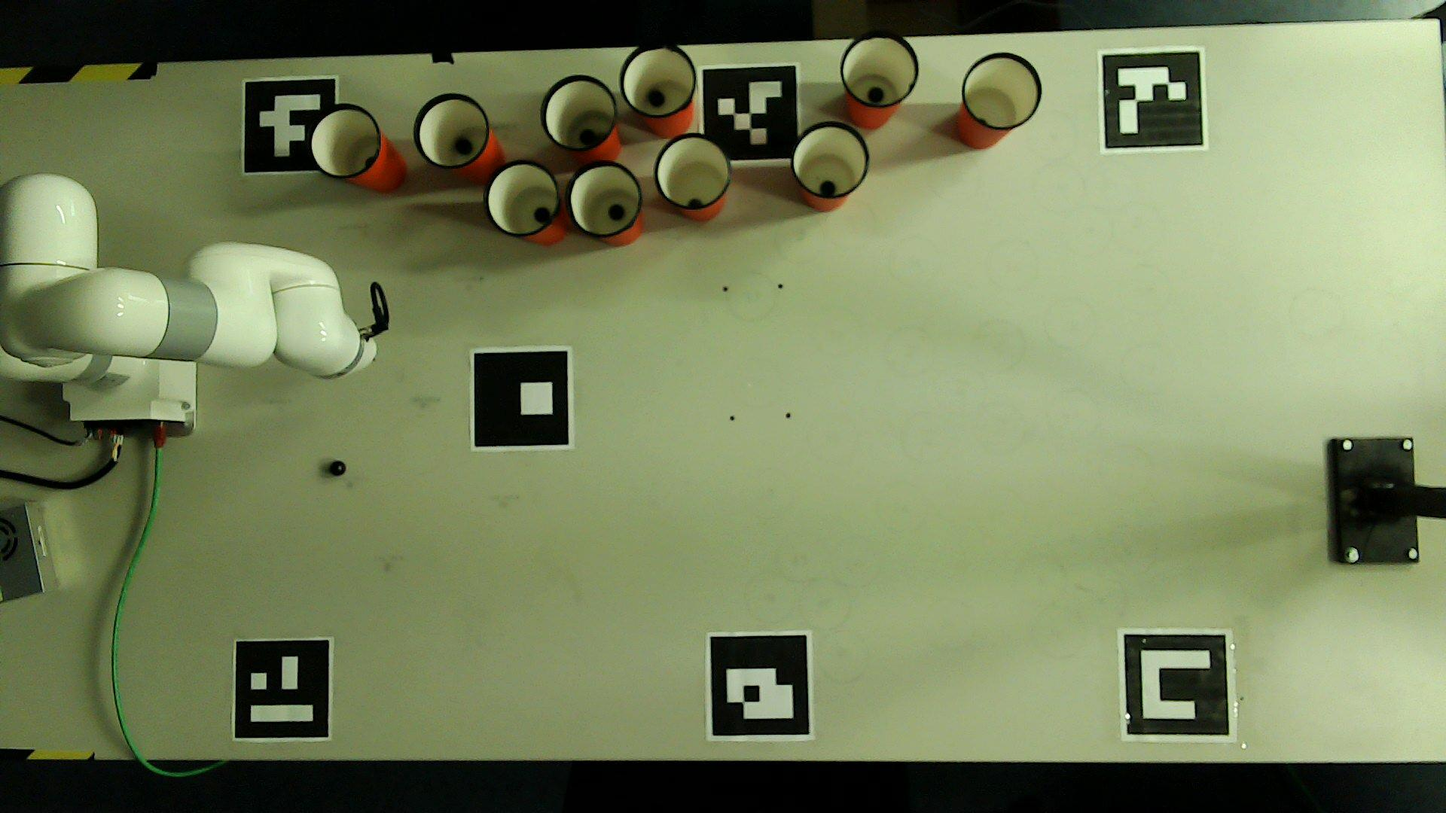ball: (647, 91, 665, 107), (820, 181, 837, 195), (534, 209, 550, 223), (609, 204, 623, 220), (330, 461, 344, 476), (457, 139, 472, 153), (868, 88, 883, 102), (580, 130, 596, 143)
cup: (964, 53, 1041, 128), (793, 123, 868, 197), (656, 134, 730, 208), (842, 34, 917, 106), (568, 163, 641, 235), (309, 105, 380, 178), (486, 162, 557, 235), (543, 77, 615, 148), (622, 44, 694, 115), (416, 96, 487, 167)
